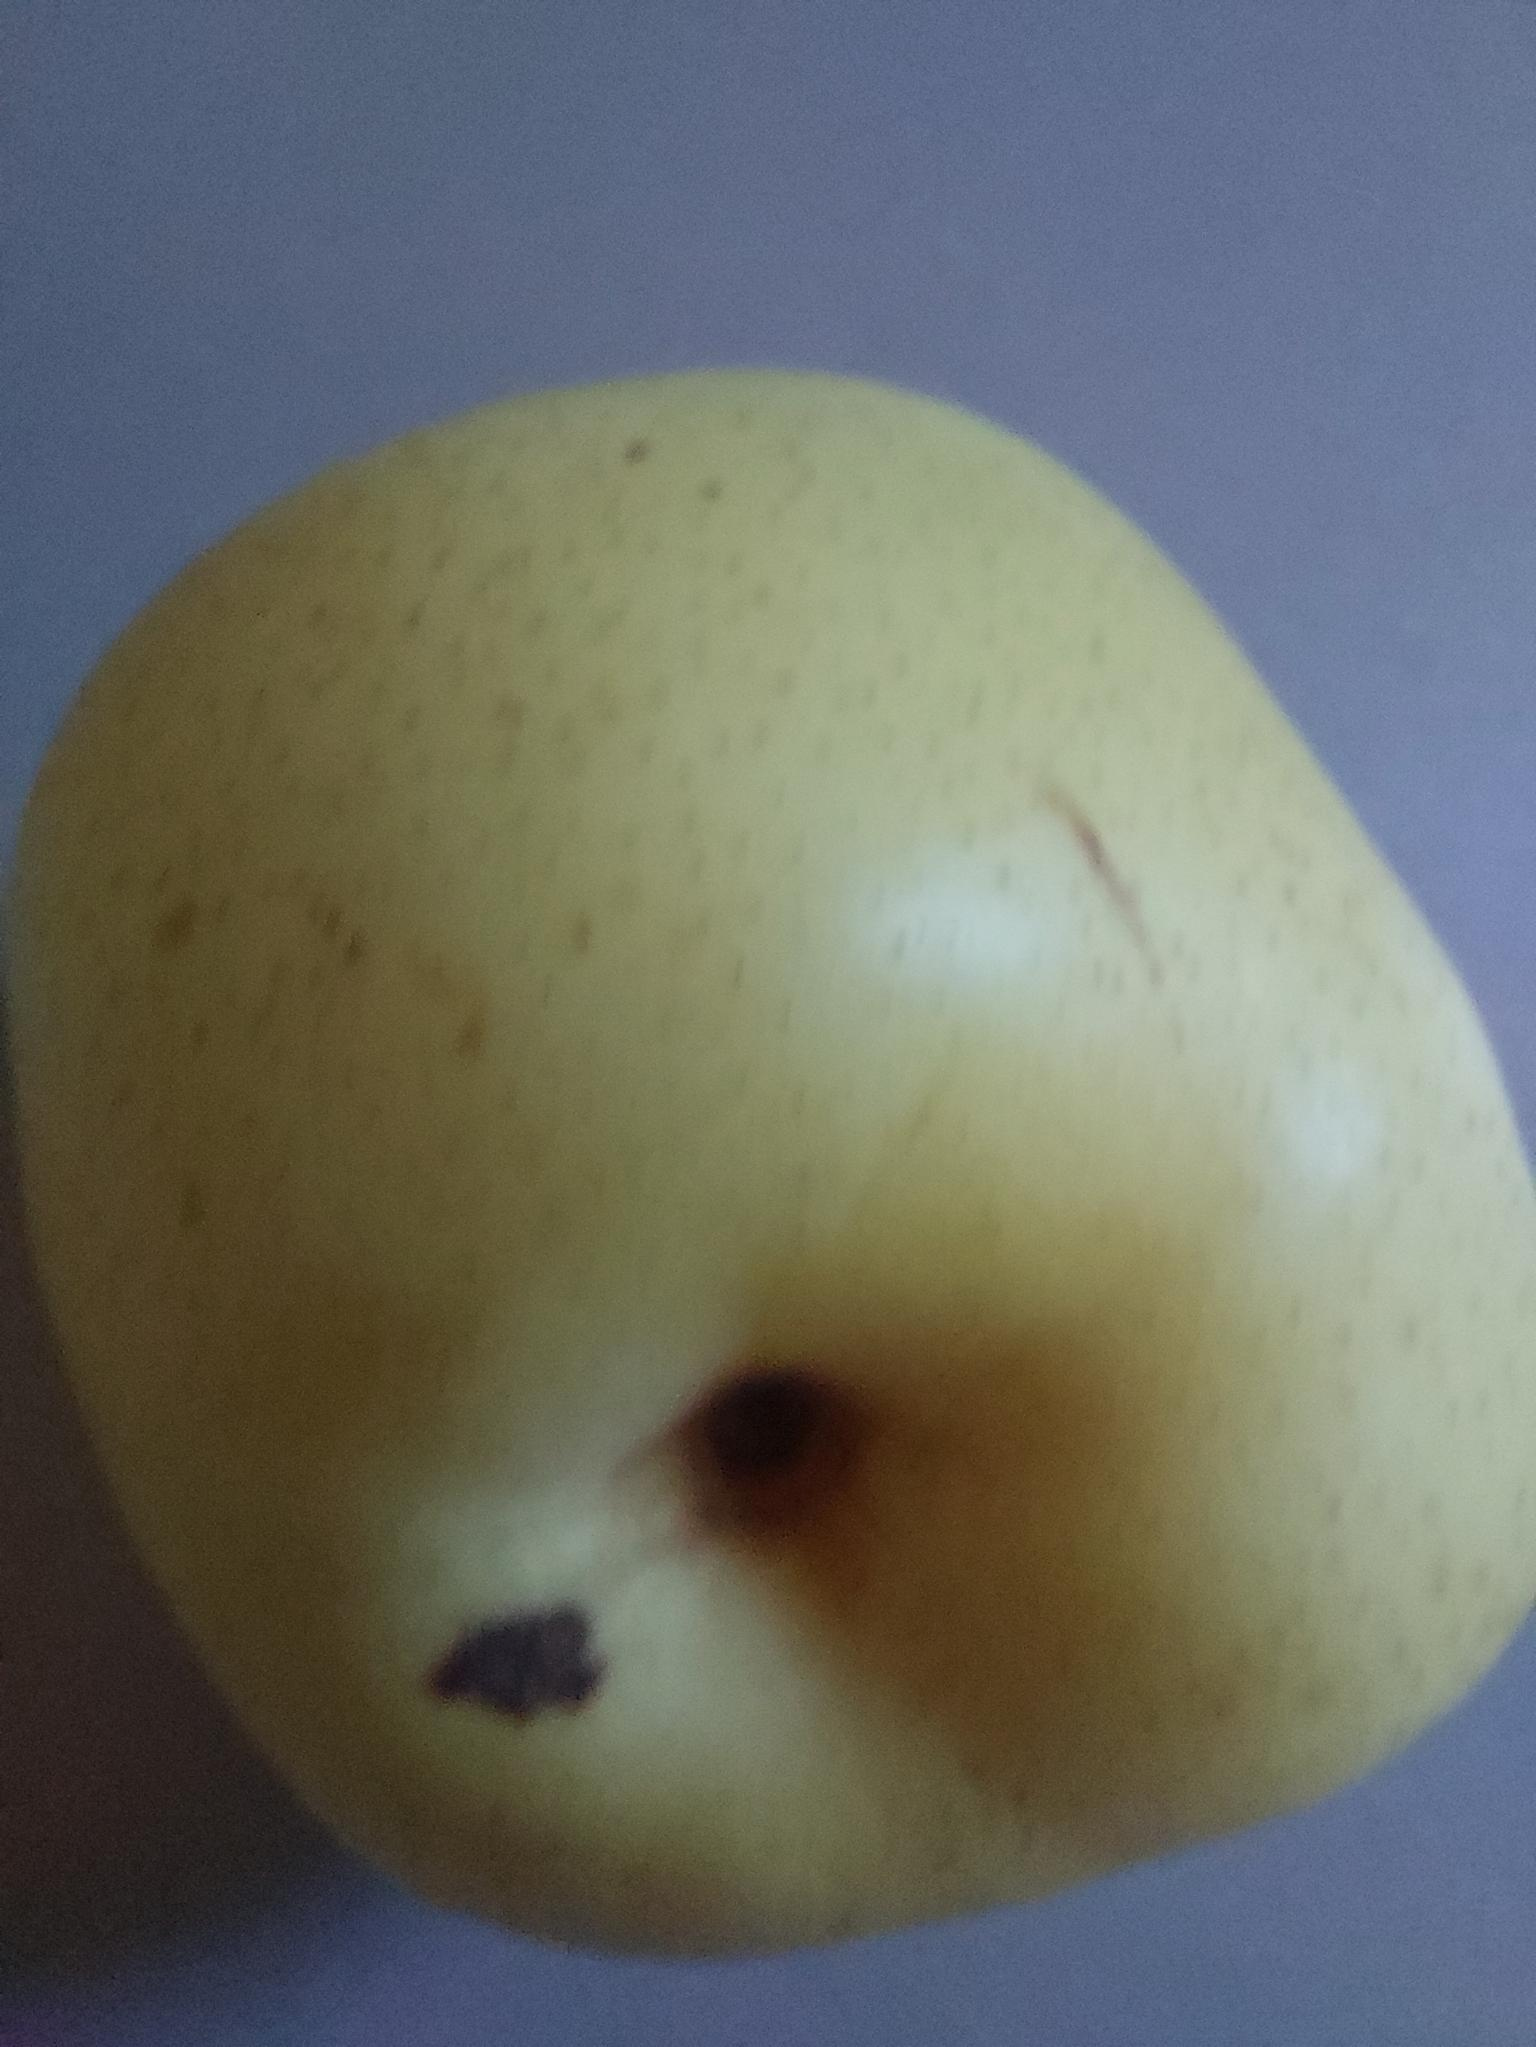Good Pear: (0, 318, 1536, 2047)
